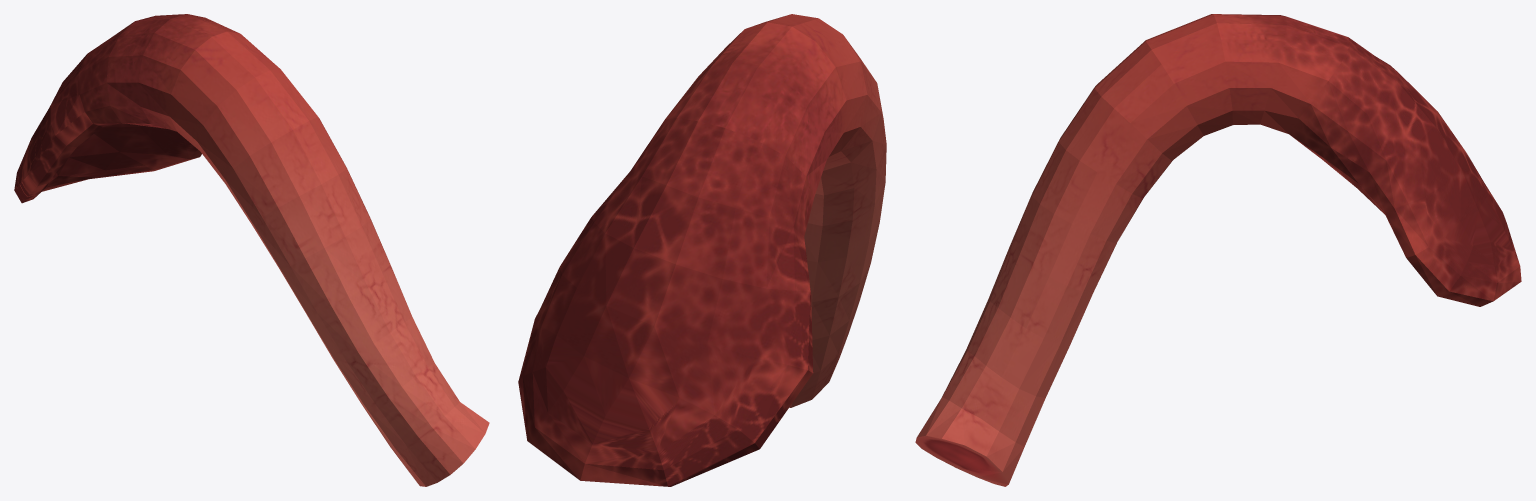
The model's file is Tube_Right_Alone.obj.
3 renders of one model, left to right at view 1: azimuth 30°, elevation 25°; view 2: azimuth 150°, elevation 25°; view 3: azimuth 270°, elevation 25°, orthographic. The views are drawn at different scales.
Visible parts, largest first — view 1: Utero3_trompas_de_falopio1; view 2: Utero3_trompas_de_falopio1; view 3: Utero3_trompas_de_falopio1.
Part boxes in pixels (x1,y1,x2,y2): Utero3_trompas_de_falopio1: [14, 14, 489, 486]; Utero3_trompas_de_falopio1: [518, 14, 886, 486]; Utero3_trompas_de_falopio1: [915, 14, 1521, 486].
Bounding box in the file's own units: 0.4505 × 0.6789 × 0.8968.
1 material, 1 textured.
